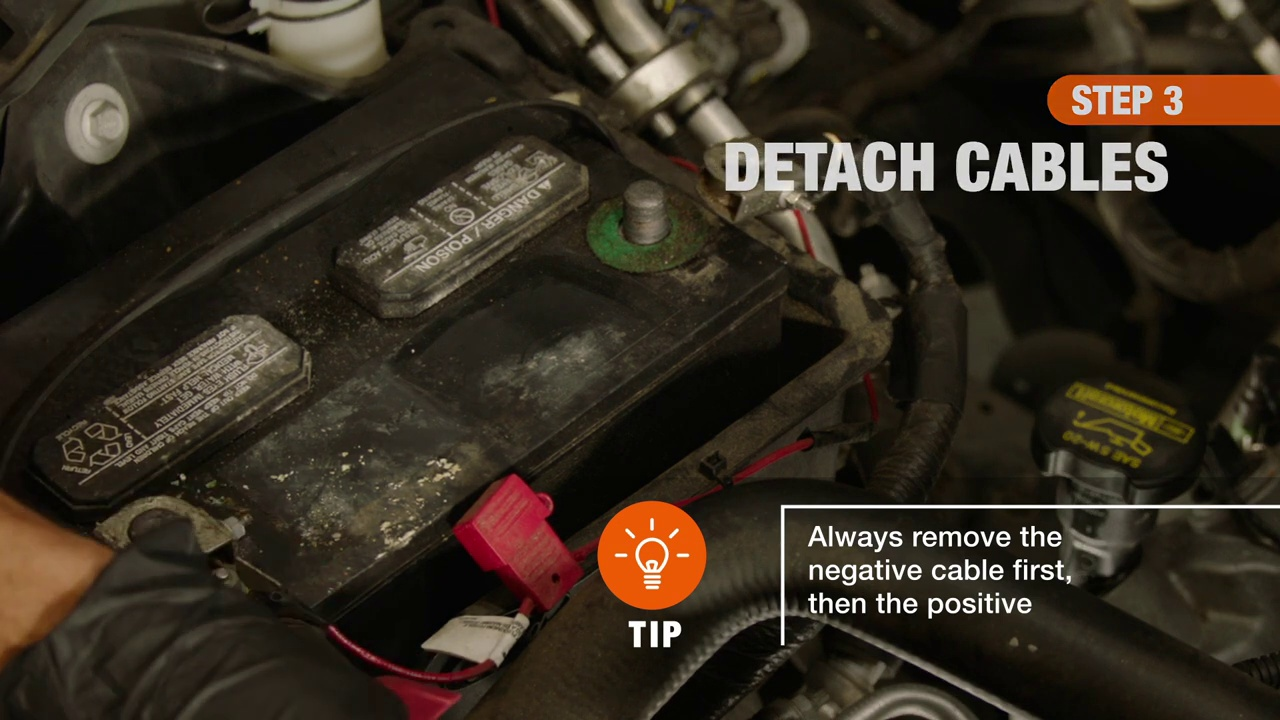battery: (14, 51, 767, 648)
